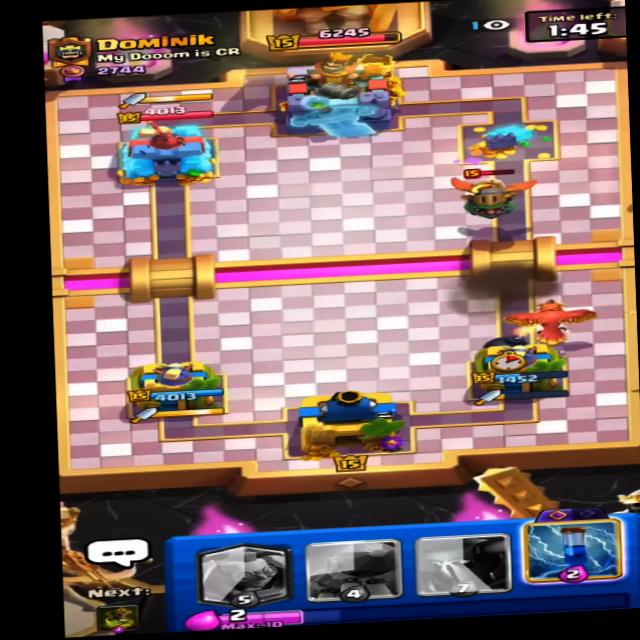inferno-dragon: (444, 161, 545, 224)
